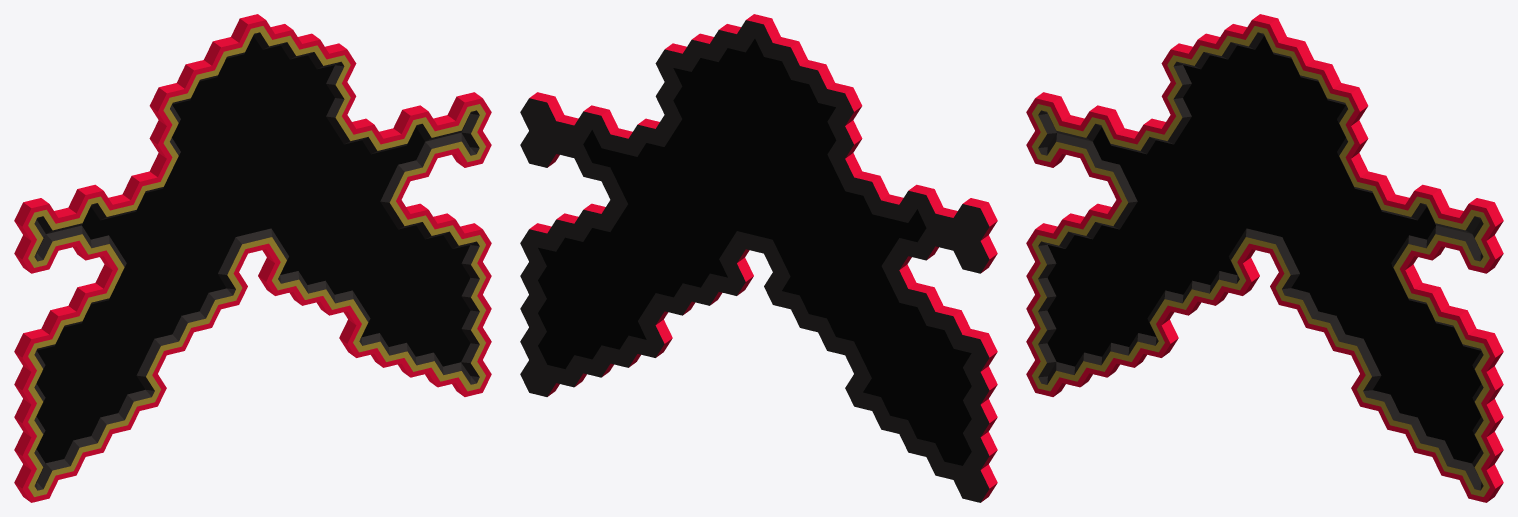
Rendered from Queenbee_hive.fbx.
3 views of the same model, side by side, from view 1: azimuth 30°, elevation 25°; view 2: azimuth 150°, elevation 25°; view 3: azimuth 330°, elevation 25° (orthographic).
Parts seen in each view (by area): view 1: THE QUEEN'S HIVE.003; view 2: THE QUEEN'S HIVE.003; view 3: THE QUEEN'S HIVE.003.
Part boxes in pixels (box(x1,y1,x2,y2)): THE QUEEN'S HIVE.003: box(14, 14, 491, 502); THE QUEEN'S HIVE.003: box(520, 14, 997, 502); THE QUEEN'S HIVE.003: box(1026, 14, 1503, 502).
Bounding box in the file's own units: 2985 × 2587 × 90.91.
